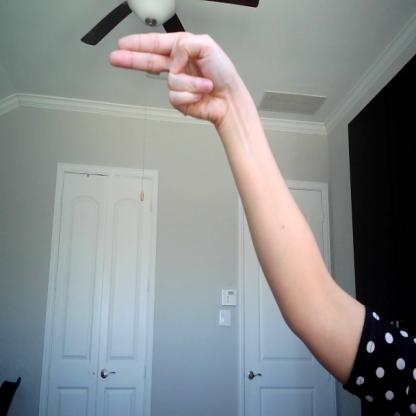H: (109, 29, 237, 127)
